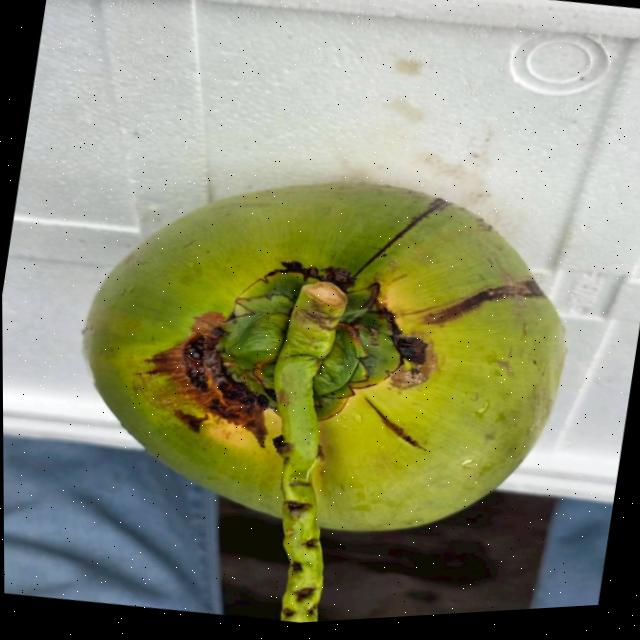coco_1.5: (130, 206, 471, 492)
